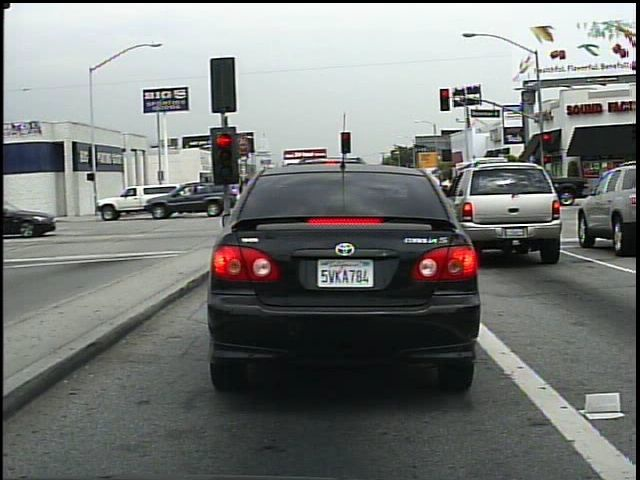person: (168, 177, 191, 216)
